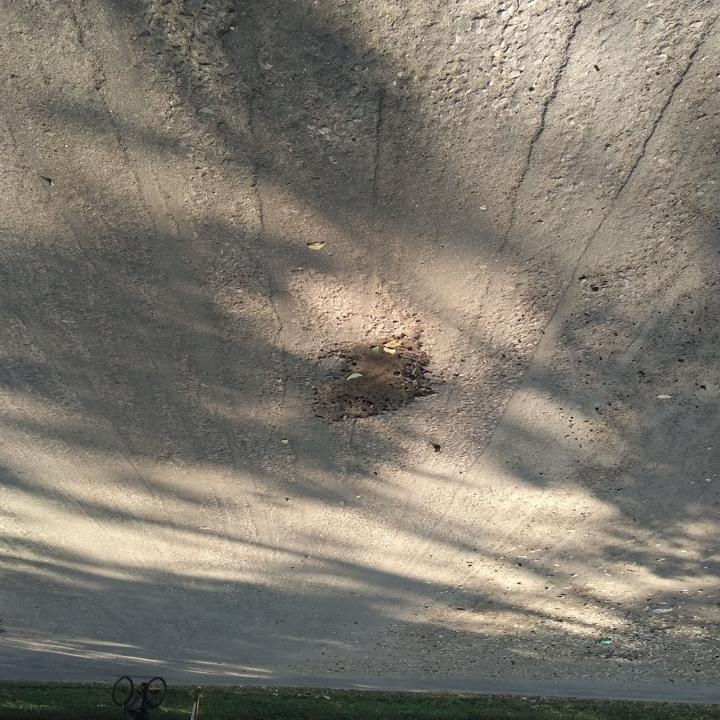pothole: (305, 323, 445, 427)
